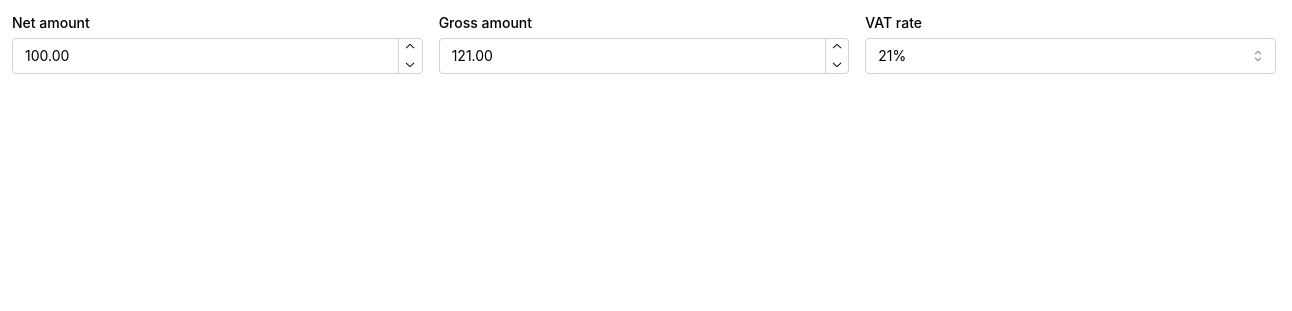
Test case: LineItem - Optimistic State › retains VAT rate change even when parent does not update props
This screenshot has width=1292, height=311.
Click the field with test id "line-item-vat-rate": (1071, 56) [865,38,1276,74]
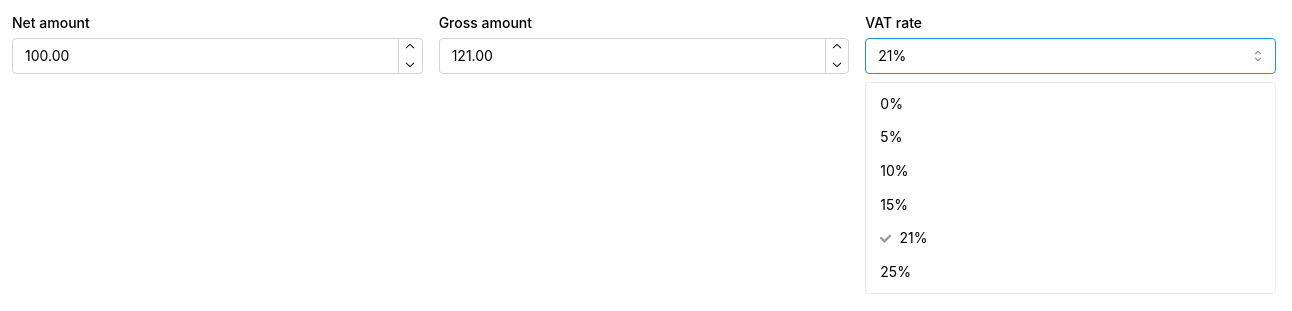
Click the option "10%": (894, 171) [880,162,909,179]
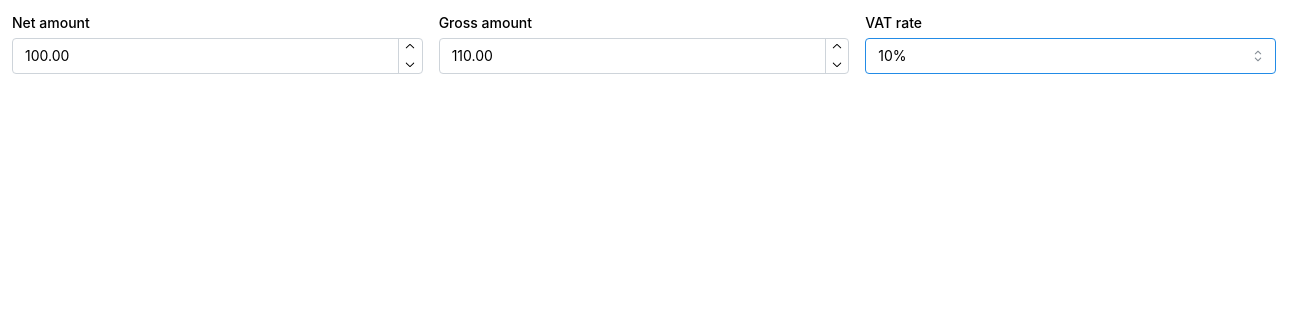
expect the field with test id "line-item-net" holds "100.00": met, box [12,38,423,74]
expect the field with test id "line-item-gross" holds "110.00": met, box [439,38,849,74]
expect the field with test id "line-item-vat-rate" holds "10%": met, box [865,38,1276,74]
